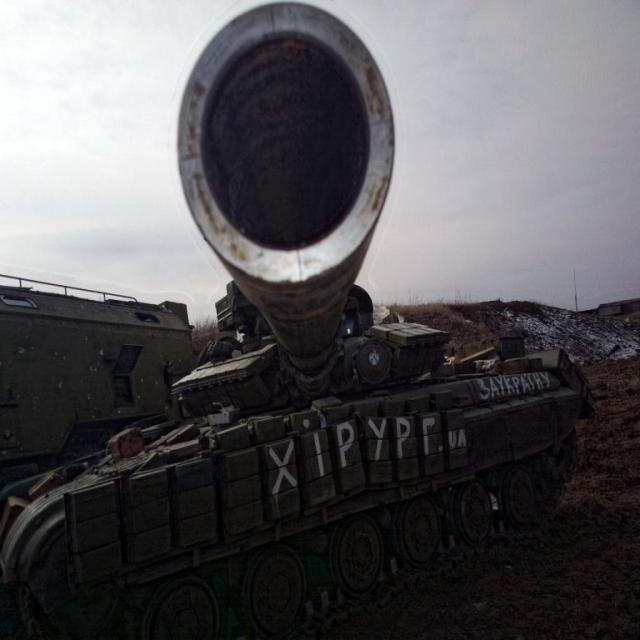tank: (0, 3, 595, 639)
